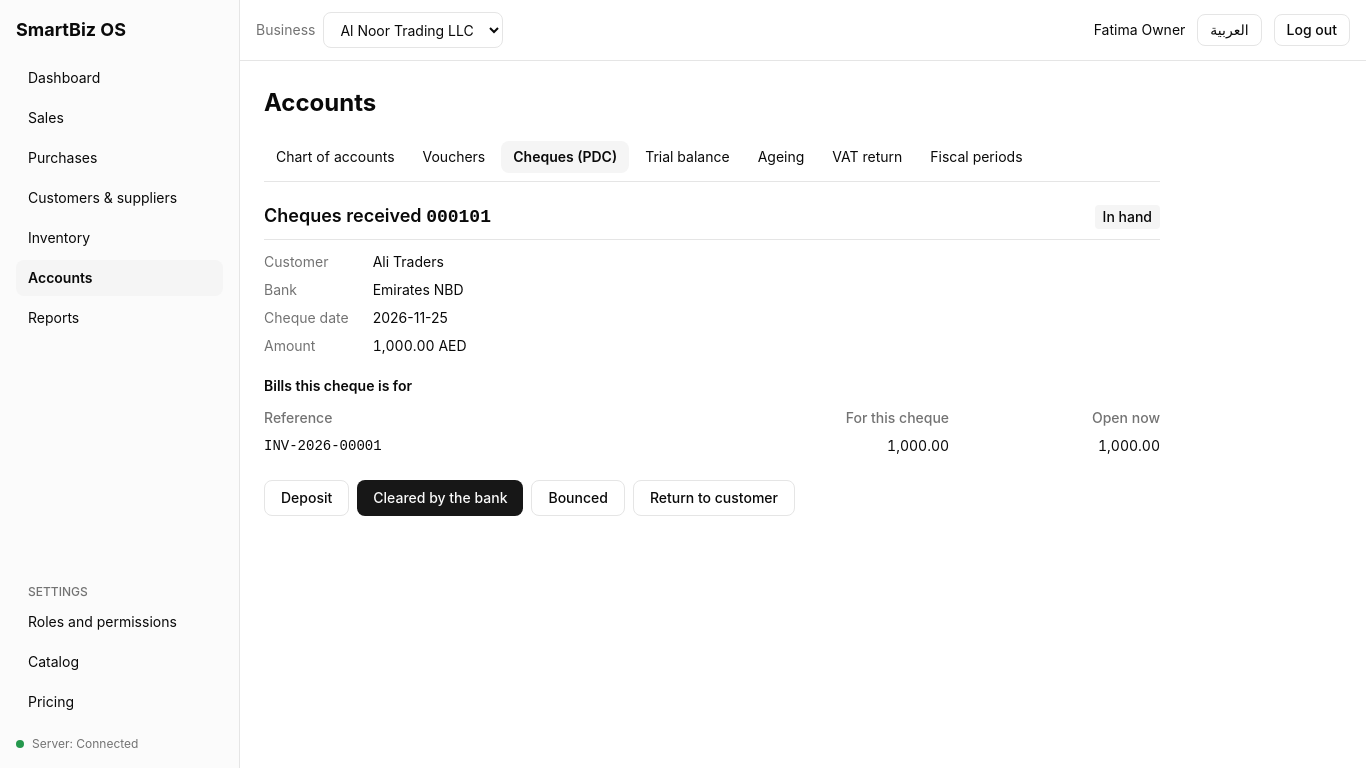
PDC screens › clears a cheque into the bank and links the receipt it posted
Click the button "Cleared by the bank" at (440, 498), box [357, 480, 524, 516]
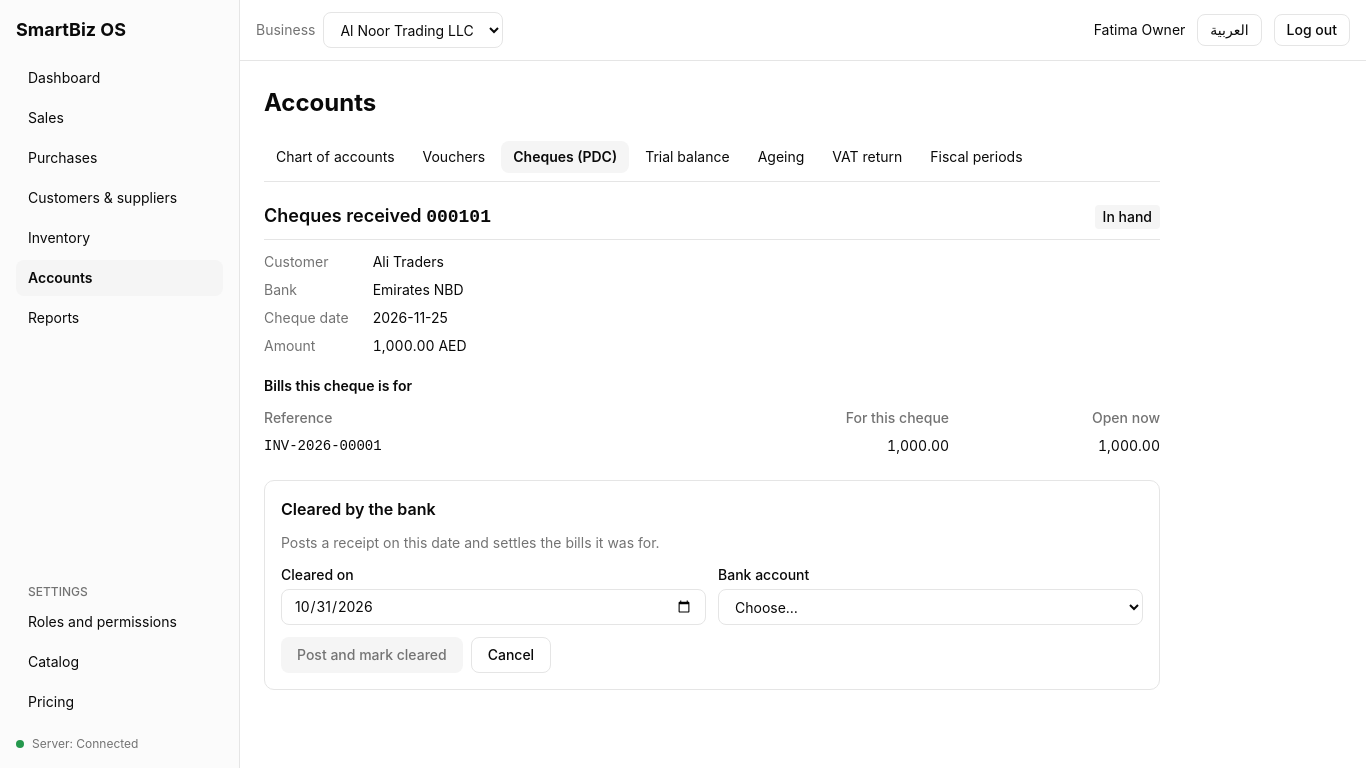
Expected: the button "Post and mark cleared" is disabled, [281, 637, 463, 673]
Select "1150 Bank" in the dropdown labelled "Bank account" at (930, 607), box [718, 589, 1143, 625]
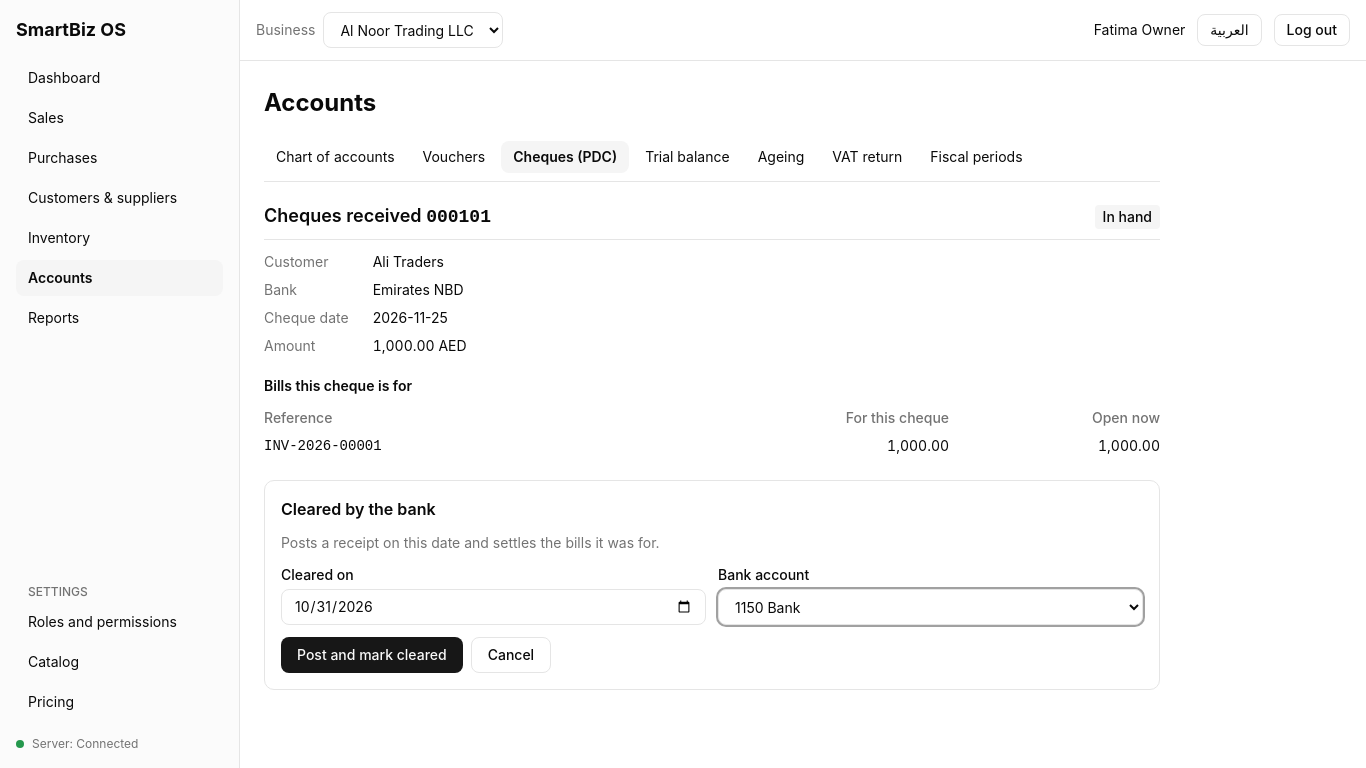
Type "2026-11-26" into the date field labelled "Cleared on" at (494, 607), box [281, 589, 706, 625]
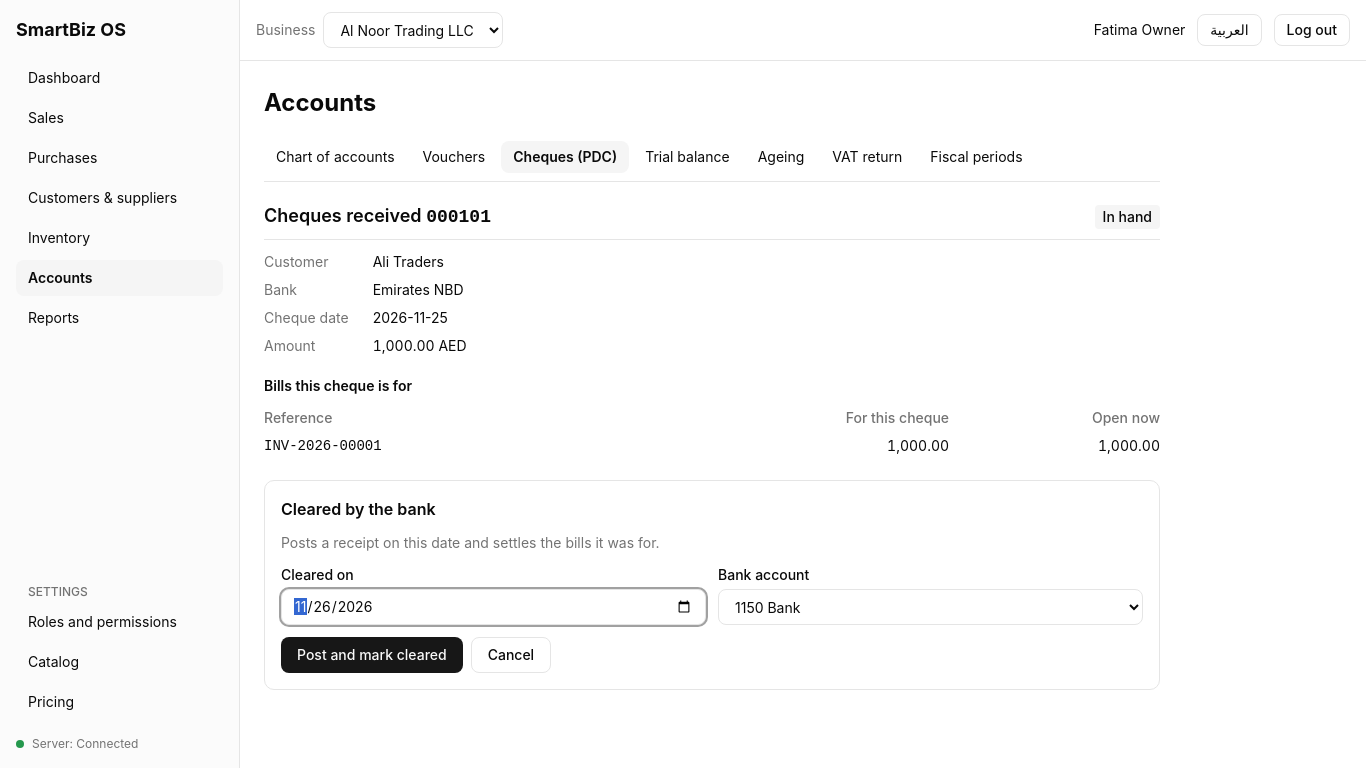
Click the button "Post and mark cleared" at (372, 655), box [281, 637, 463, 673]
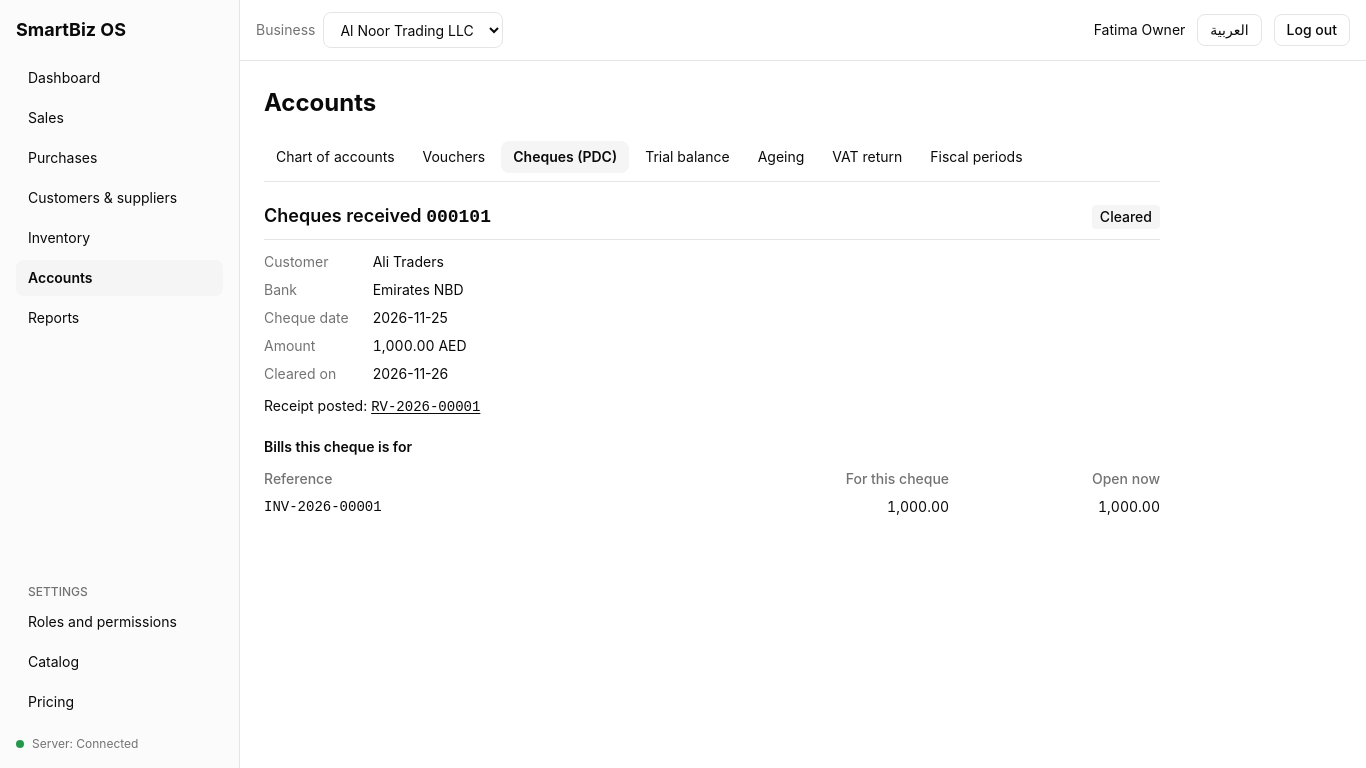
Expected: the button "Deposit" is not shown
Expected: the link "RV-2026-00001" is shown, [371, 399, 480, 415]
Expected: the text "Cleared" is shown, [1092, 205, 1160, 229]
